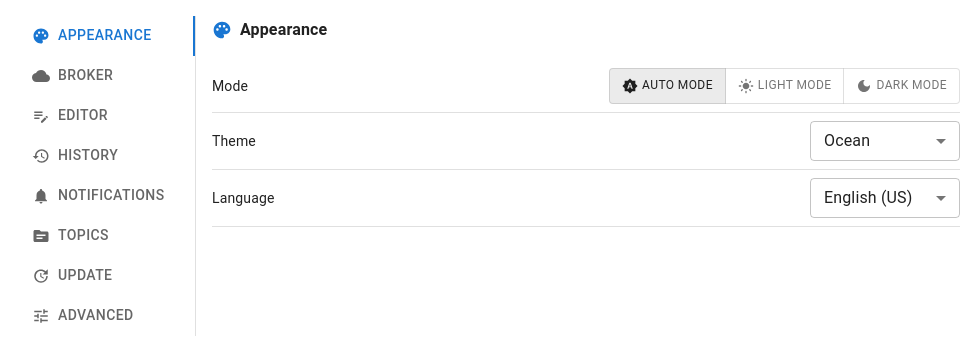
the settings tab › orders the categories and gives Editor five unchecked rows
Click the tab "Editor" at (106, 116), box top-left (16, 96), bottom-right (195, 136)
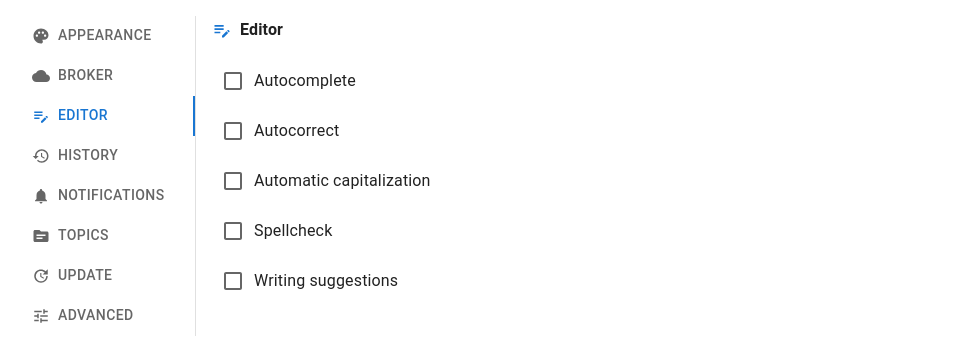
Result: the checkbox labelled "Autocomplete" is not checked at top-left (221, 69), bottom-right (356, 93)
Result: the checkbox labelled "Autocorrect" is not checked at top-left (221, 119), bottom-right (339, 143)
Result: the checkbox labelled "Automatic capitalization" is not checked at top-left (221, 169), bottom-right (431, 193)
